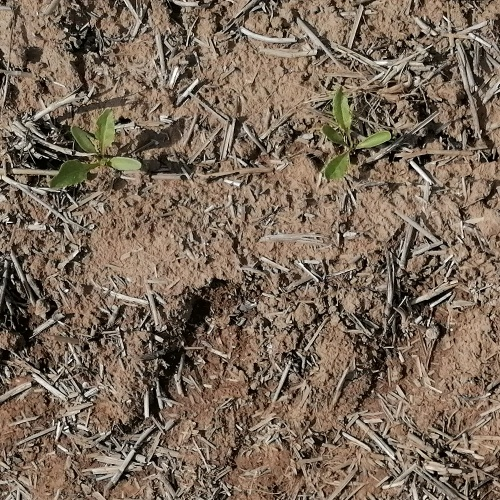beet: (48, 107, 141, 188), (320, 87, 391, 185)
